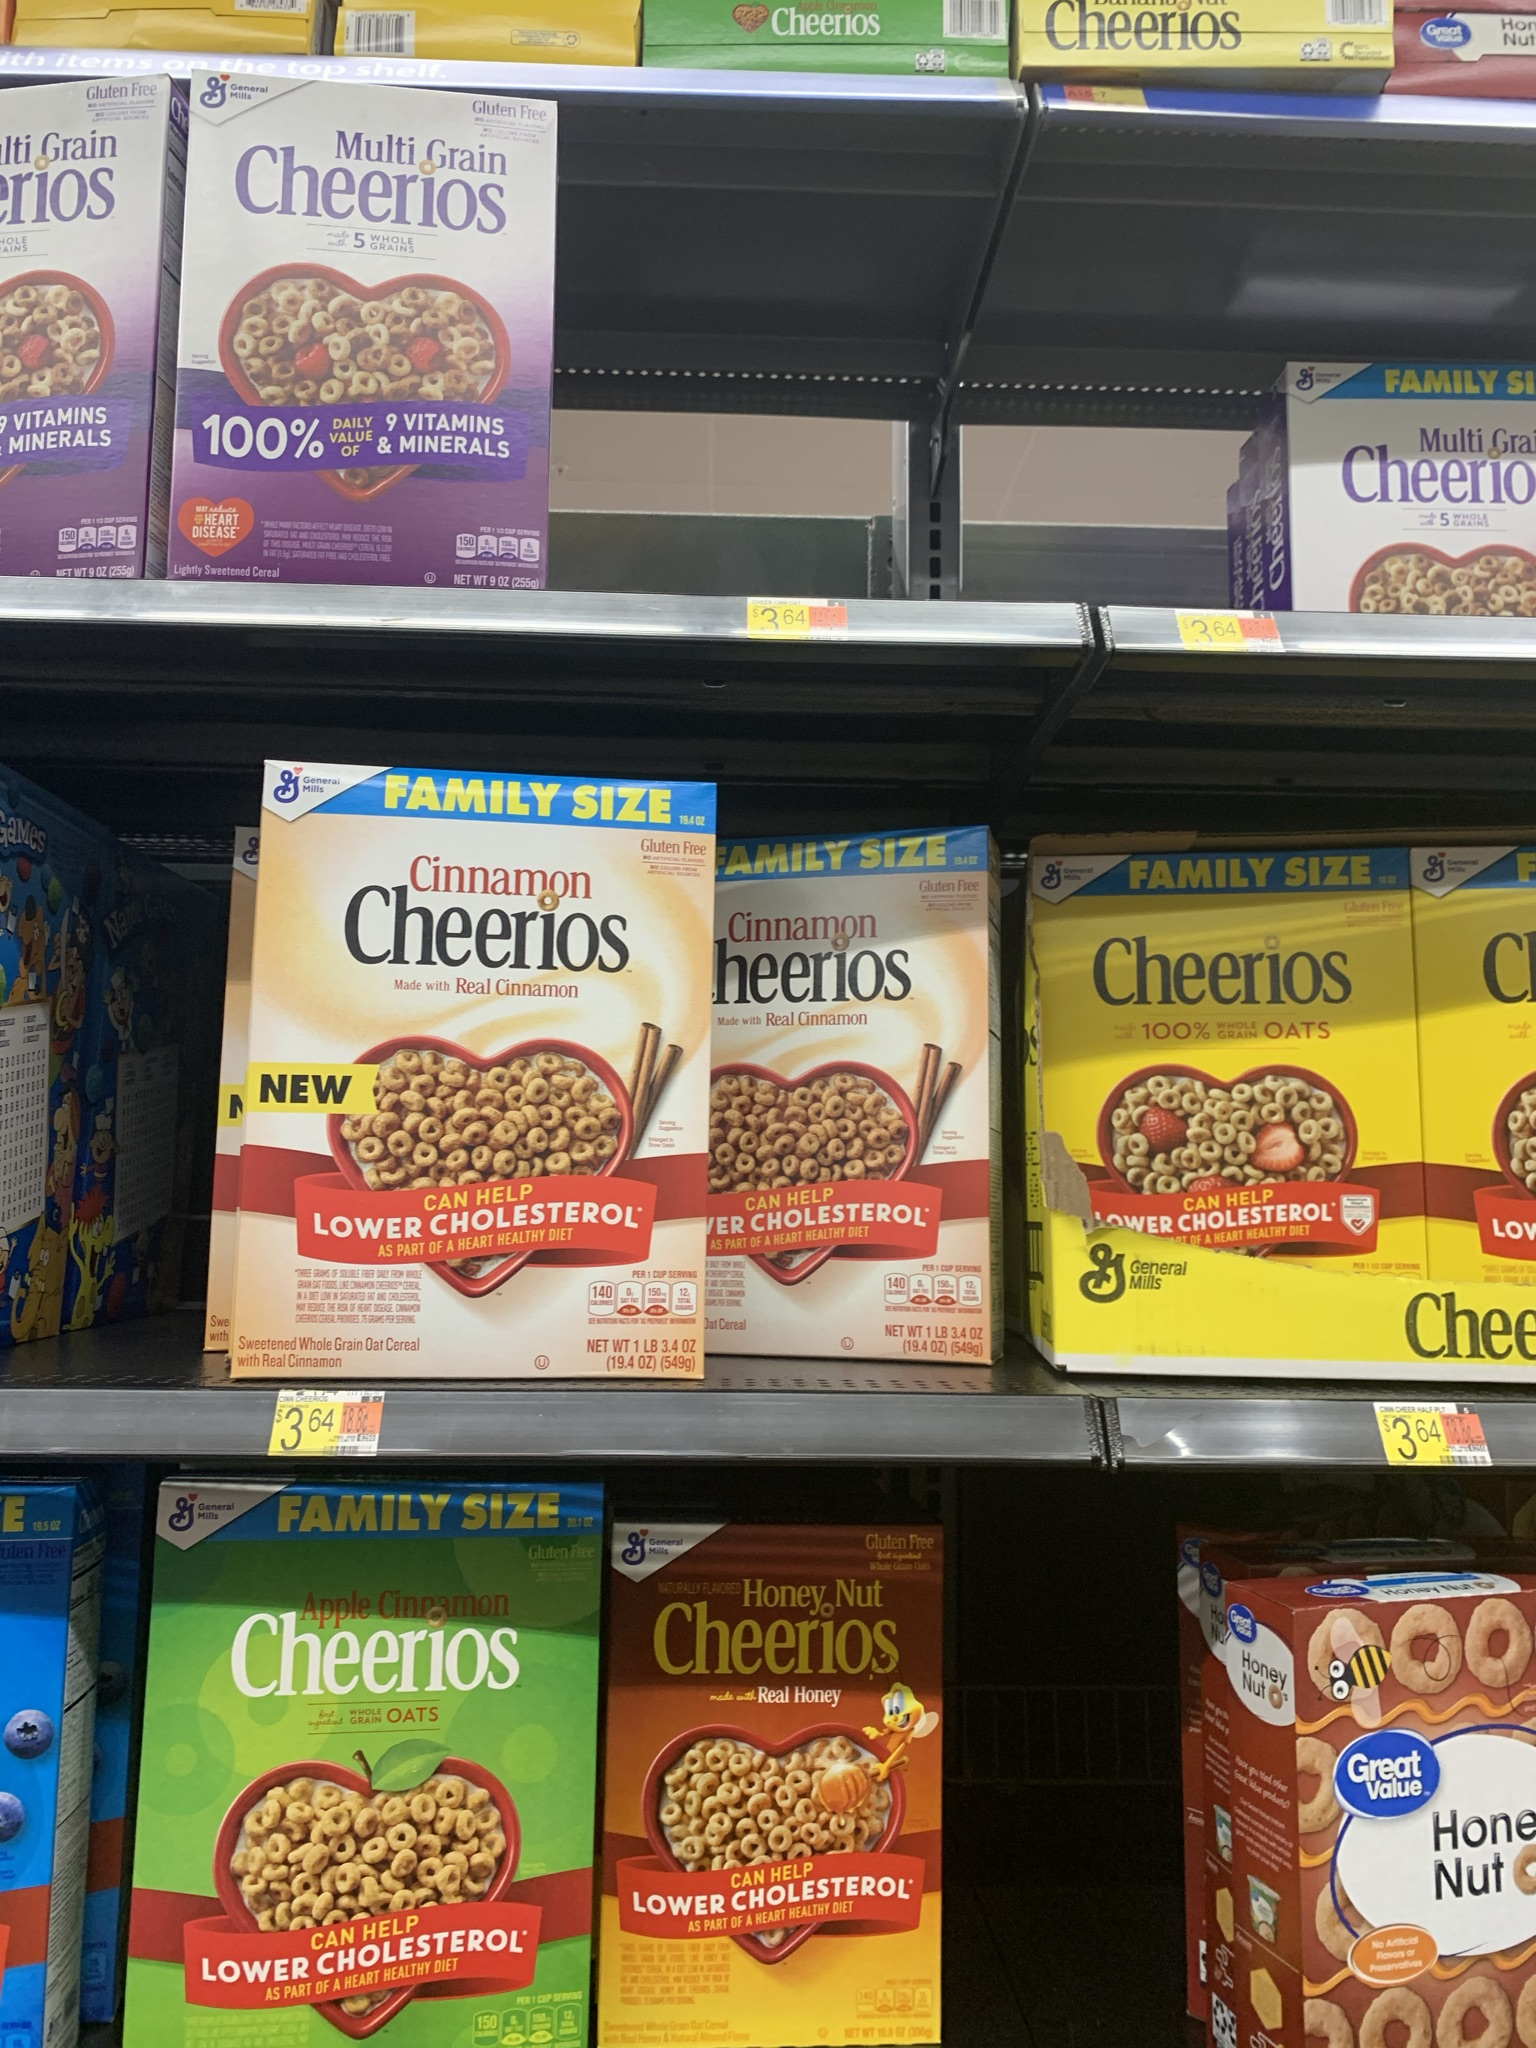Cereal: (261, 763, 707, 1380), (157, 1480, 594, 2048), (1025, 851, 1417, 1377), (603, 1522, 945, 2048)
